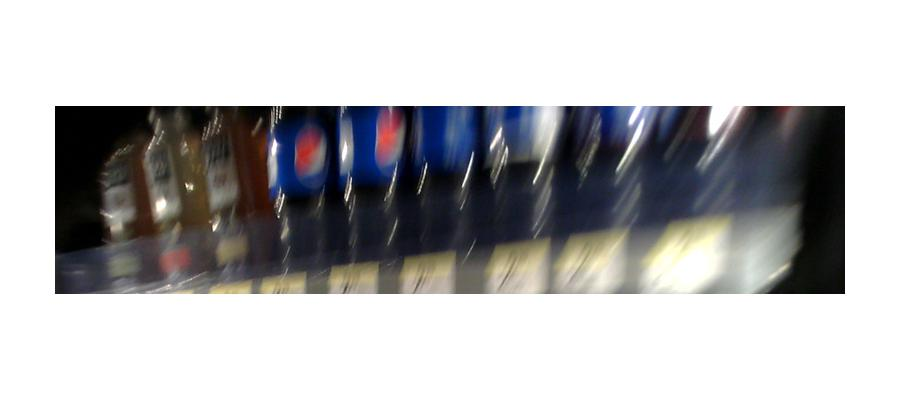bottle: (268, 113, 335, 286), (101, 112, 165, 285), (411, 105, 483, 257), (339, 110, 405, 275)
